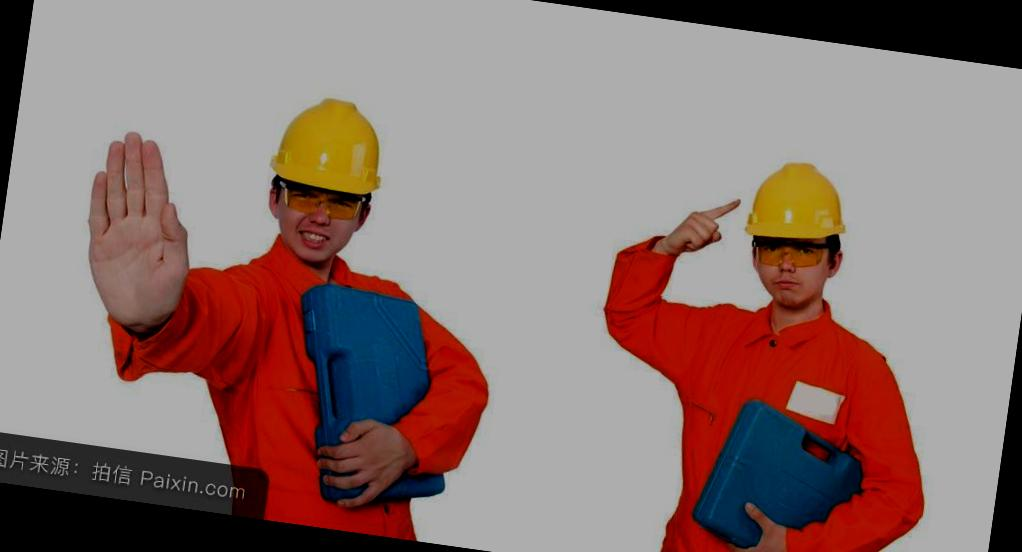helmet: (264, 92, 393, 203), (742, 160, 854, 247)
person: (568, 137, 969, 552), (188, 81, 526, 548)
